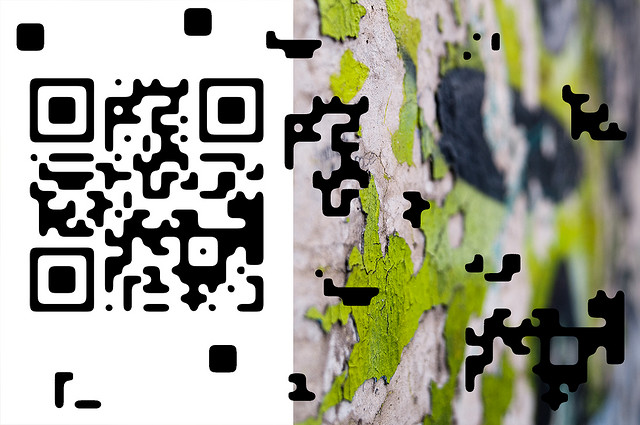QR-CODE: (29, 78, 264, 312)
